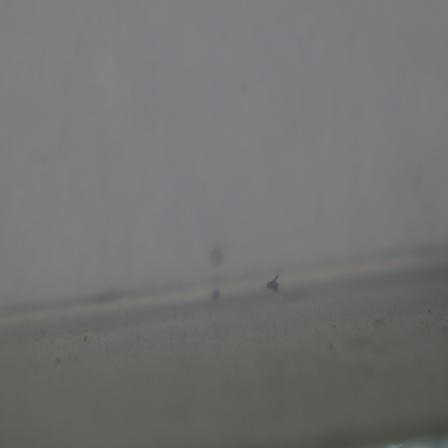Jentik-Nyamuk: (264, 268, 285, 293)
